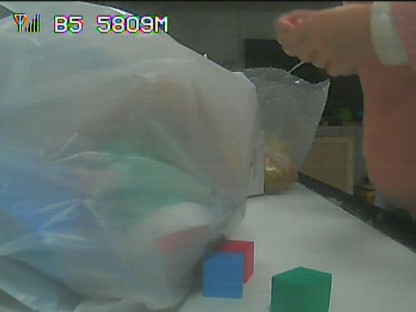b: (205, 254, 244, 294)
g: (273, 270, 327, 310)
